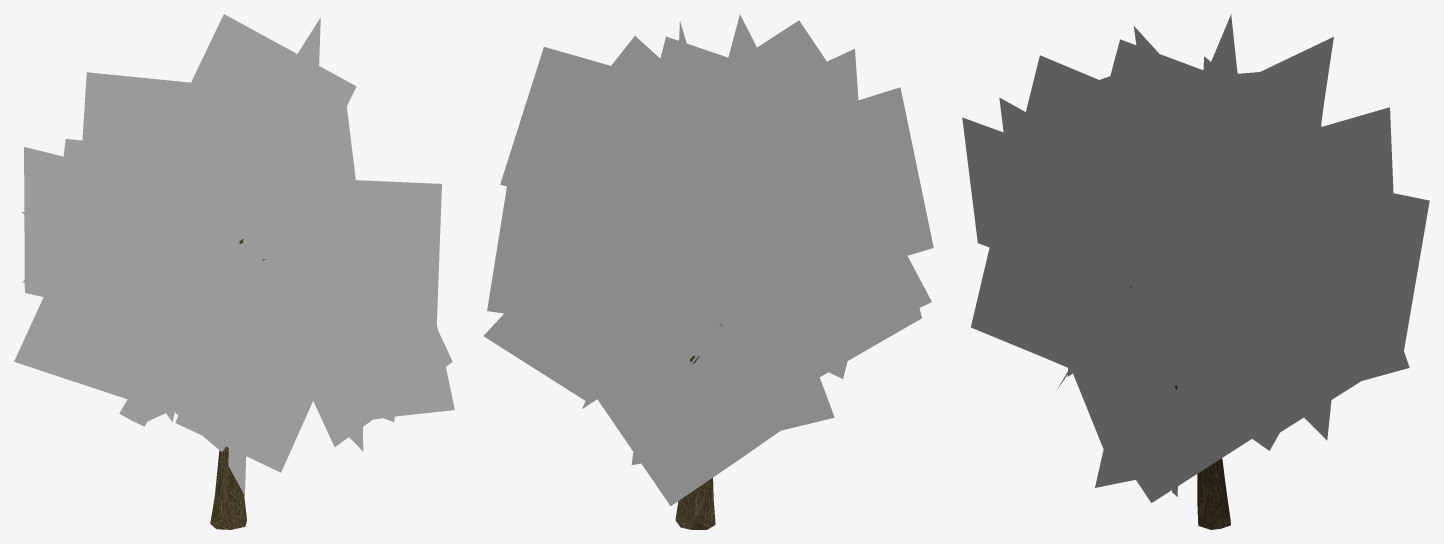
Rendered from tree.gltf.
The picture shows the model from 3 angles, left to right: view 1: azimuth 30°, elevation 25°; view 2: azimuth 150°, elevation 25°; view 3: azimuth 270°, elevation 25°; orthographic projection. The views are drawn at different scales.
Parts seen in each view (by area): view 1: prim0, prim1; view 2: prim0, prim1; view 3: prim0, prim1.
Part boxes in pixels (left/top/right/bottom): prim0: left=14, top=14, right=454, bottom=495; prim1: left=210, top=239, right=265, bottom=529; prim0: left=483, top=14, right=933, bottom=505; prim1: left=675, top=324, right=722, bottom=529; prim0: left=962, top=14, right=1429, bottom=502; prim1: left=1129, top=285, right=1230, bottom=529.
Size of the model in its own units: 34.06 by 37.31 by 32.69.
2 materials, 1 textured.
